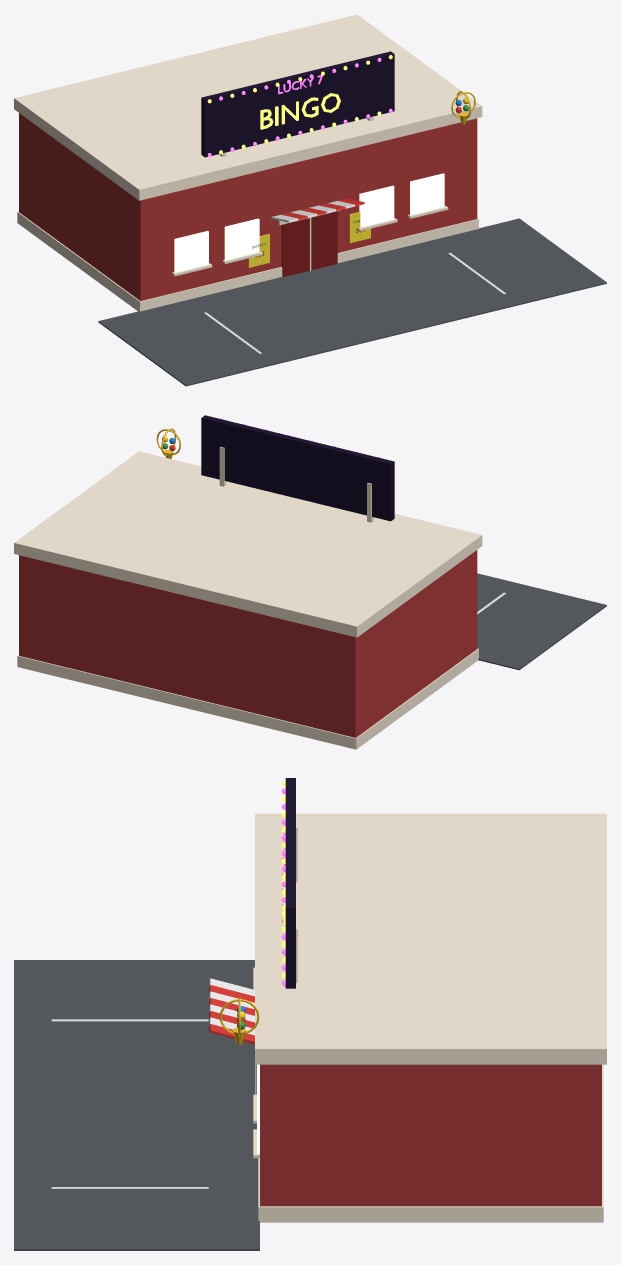
File: hustle_bingo.glb
3 renders of one model, top to bottom at view 1: azimuth 30°, elevation 25°; view 2: azimuth 150°, elevation 25°; view 3: azimuth 270°, elevation 25°, orthographic. The views are drawn at different scales.
Visible parts, largest first — view 1: Bingo_body; view 2: Bingo_body; view 3: Bingo_body.
Part boxes in pixels (x1,y1,x2,y2): Bingo_body: (14, 14, 606, 386); Bingo_body: (14, 415, 606, 749); Bingo_body: (14, 778, 606, 1250).
Size of the model in its own units: 20 by 8.51 by 17.35.
